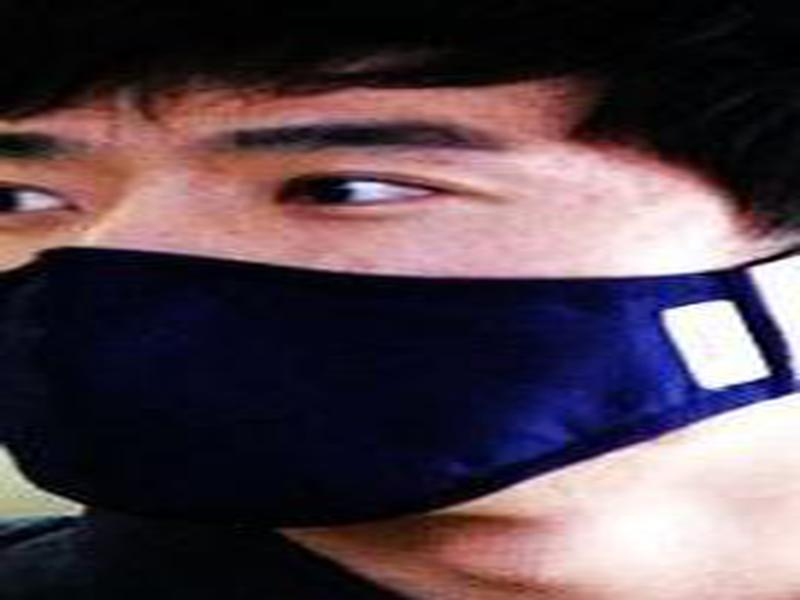with_mask: (1, 70, 795, 533)
